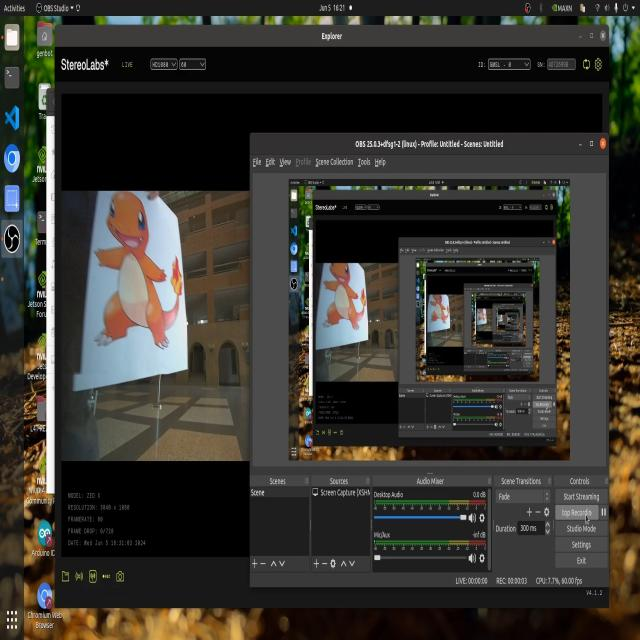red: (96, 187, 180, 351), (316, 265, 371, 345)
